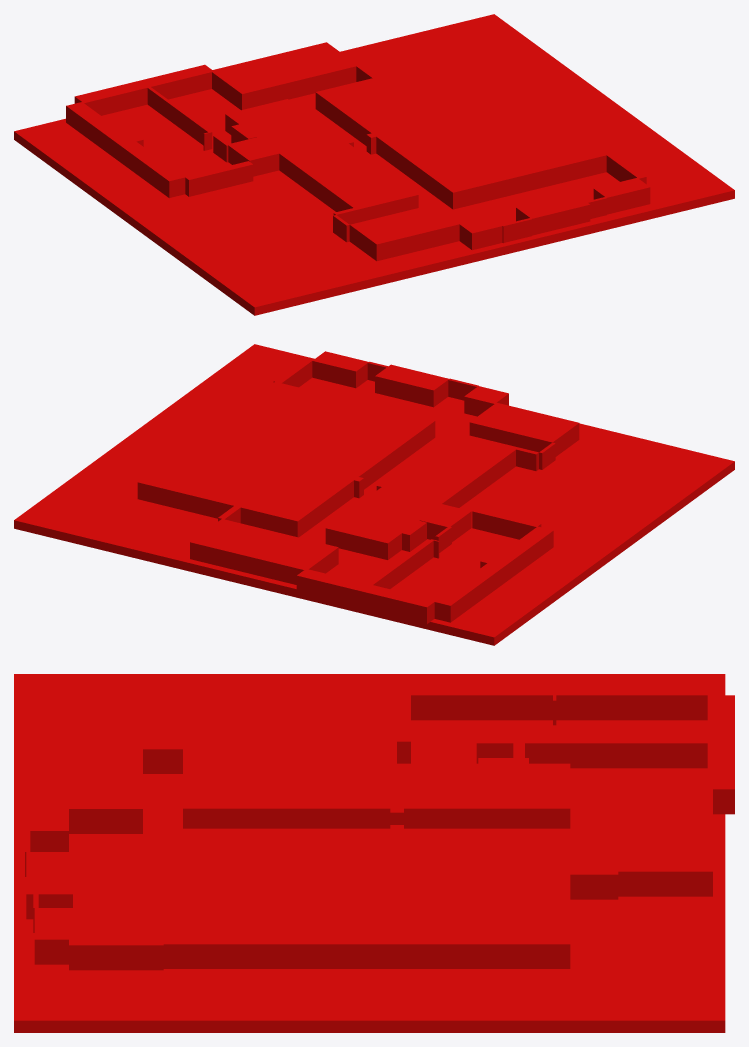
Rendered from school_cblock_1st.hitboxes.glb.
The picture shows the model from 3 angles, top to bottom: view 1: azimuth 30°, elevation 25°; view 2: azimuth 150°, elevation 25°; view 3: azimuth 270°, elevation 25°; orthographic projection. The views are drawn at different scales.
Parts seen in each view (by area): view 1: c_floor_hitbox_invisible.062, c_ground_hitbox_invisible.042, c_ground_hitbox_invisible.043, c_ground_hitbox_invisible.040, c_ground_hitbox_invisible.056, c_ground_hitbox_invisible.038, c_ground_hitbox_invisible.039, c_ground_hitbox_invisible.055, c_ground_hitbox_invisible.045, c_ground_hitbox_invisible.054, c_ground_hitbox_invisible.044, c_ground_hitbox_invisible.051 (+3 smaller); view 2: c_floor_hitbox_invisible.062, c_ground_hitbox_invisible.042, c_ground_hitbox_invisible.043, c_ground_hitbox_invisible.040, c_ground_hitbox_invisible.038, c_ground_hitbox_invisible.056, c_ground_hitbox_invisible.039, c_ground_hitbox_invisible.055, c_ground_hitbox_invisible.054, c_ground_hitbox_invisible.045, c_ground_hitbox_invisible.044, c_ground_hitbox_invisible.051 (+3 smaller); view 3: c_floor_hitbox_invisible.062, c_ground_hitbox_invisible.042, c_ground_hitbox_invisible.043, c_ground_hitbox_invisible.038, c_ground_hitbox_invisible.040, c_ground_hitbox_invisible.056, c_ground_hitbox_invisible.051, c_ground_hitbox_invisible.039, c_ground_hitbox_invisible.053, c_ground_hitbox_invisible.055, c_ground_hitbox_invisible.054, c_ground_hitbox_invisible.059 (+5 smaller).
Part boxes in pixels (<box>): c_floor_hitbox_invisible.062: <box>14,14,734,315</box>; c_ground_hitbox_invisible.042: <box>315,53,612,209</box>; c_ground_hitbox_invisible.043: <box>225,99,418,222</box>; c_ground_hitbox_invisible.040: <box>212,42,358,110</box>; c_ground_hitbox_invisible.056: <box>349,204,459,261</box>; c_ground_hitbox_invisible.038: <box>66,102,185,197</box>; c_ground_hitbox_invisible.039: <box>74,64,213,115</box>; c_ground_hitbox_invisible.055: <box>516,193,590,235</box>; c_ground_hitbox_invisible.045: <box>184,161,253,196</box>; c_ground_hitbox_invisible.054: <box>593,177,650,214</box>; c_ground_hitbox_invisible.044: <box>227,137,279,176</box>; c_ground_hitbox_invisible.051: <box>147,87,212,149</box>; c_floor_hitbox_invisible.062: <box>14,344,734,645</box>; c_ground_hitbox_invisible.042: <box>137,381,435,537</box>; c_ground_hitbox_invisible.043: <box>325,432,518,559</box>; c_ground_hitbox_invisible.040: <box>190,519,338,584</box>; c_ground_hitbox_invisible.038: <box>434,526,553,622</box>; c_ground_hitbox_invisible.056: <box>469,402,579,456</box>; c_ground_hitbox_invisible.039: <box>296,569,435,623</box>; c_ground_hitbox_invisible.055: <box>375,364,448,407</box>; c_ground_hitbox_invisible.054: <box>312,351,368,388</box>; c_ground_hitbox_invisible.045: <box>472,508,541,539</box>; c_ground_hitbox_invisible.044: <box>419,504,471,541</box>; c_ground_hitbox_invisible.051: <box>370,539,433,588</box>; c_floor_hitbox_invisible.062: <box>14,674,725,1032</box>; c_ground_hitbox_invisible.042: <box>163,828,570,968</box>; c_ground_hitbox_invisible.043: <box>183,763,570,828</box>; c_ground_hitbox_invisible.038: <box>408,683,712,720</box>; c_ground_hitbox_invisible.040: <box>618,787,712,896</box>; c_ground_hitbox_invisible.056: <box>63,749,142,833</box>; c_ground_hitbox_invisible.051: <box>525,741,707,768</box>; c_ground_hitbox_invisible.039: <box>707,695,734,814</box>; c_ground_hitbox_invisible.053: <box>69,939,163,970</box>; c_ground_hitbox_invisible.055: <box>26,852,72,919</box>; c_ground_hitbox_invisible.054: <box>34,908,72,964</box>; c_ground_hitbox_invisible.059: <box>26,809,68,851</box>.
Size of the model in its own units: 59.7 by 3 by 52.5.
